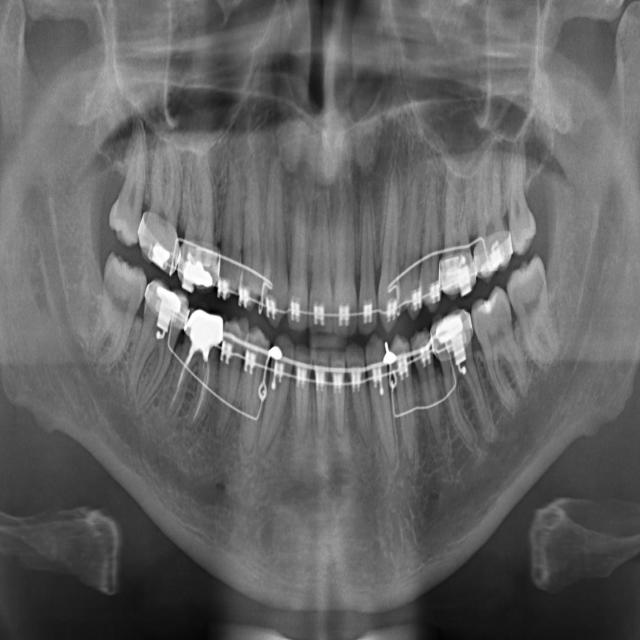AmalgamRestoration: (182, 312, 233, 353), (176, 258, 222, 300), (146, 284, 183, 335), (143, 233, 173, 274)
CompositeResinRestoration: (475, 286, 500, 326)
RootCanalTreatment: (164, 338, 220, 446)
